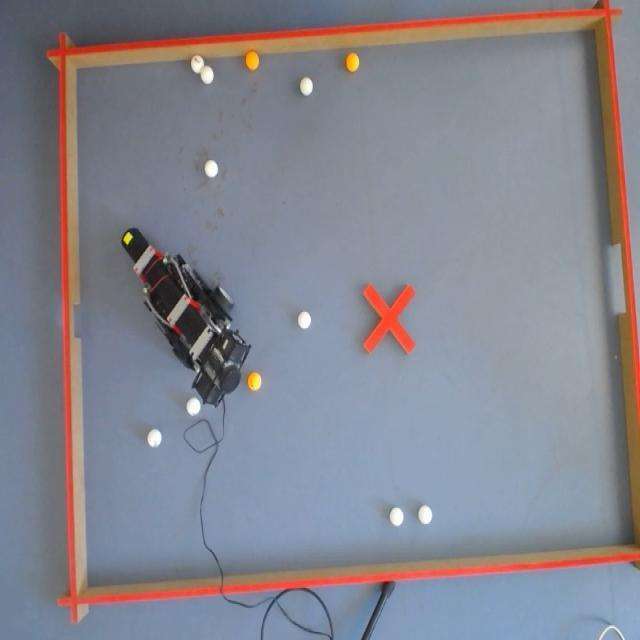orange: (344, 54, 360, 74), (244, 50, 260, 70), (247, 372, 262, 389)
robot: (120, 227, 256, 415)
white: (200, 62, 216, 84), (204, 158, 218, 180), (148, 430, 162, 450), (298, 310, 311, 331), (186, 397, 200, 416), (300, 76, 312, 98), (418, 505, 431, 525), (392, 507, 404, 527), (190, 56, 203, 74)
